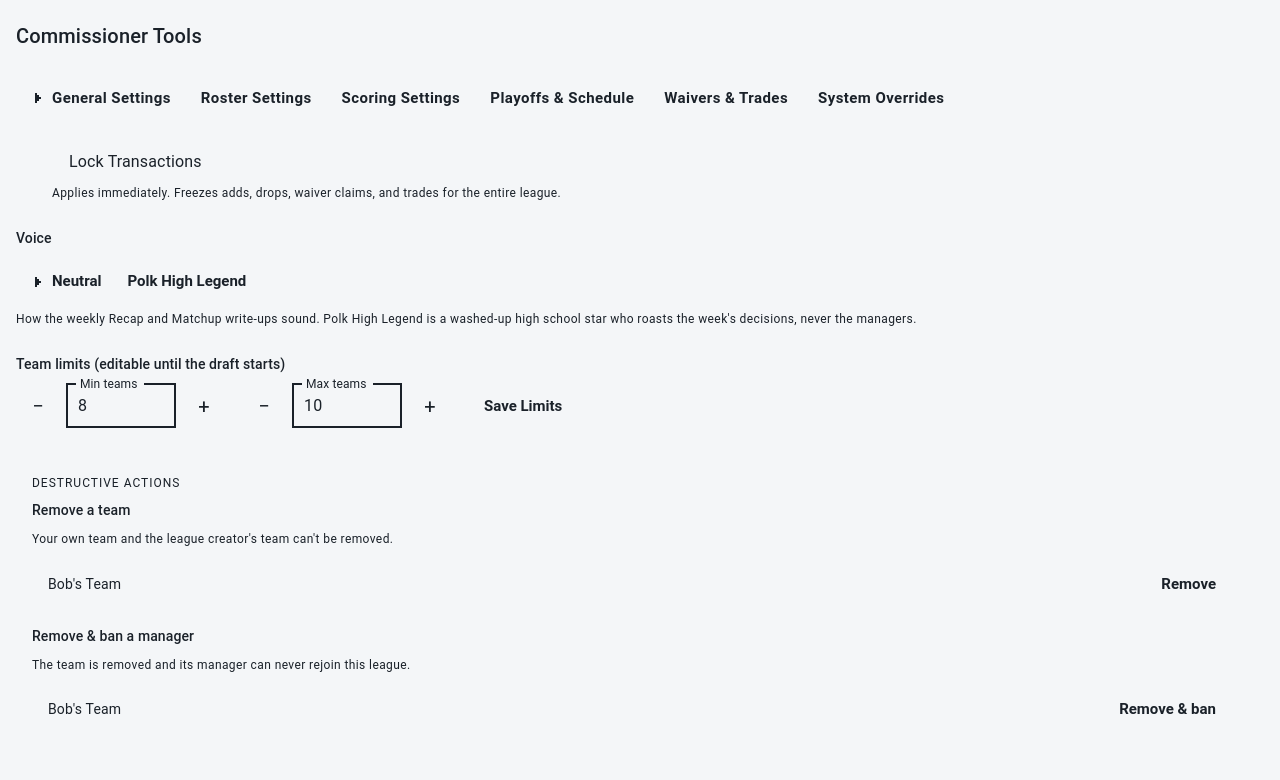
Test: Reset Scoring Settings requires a confirming second click before reverting
This screenshot has width=1280, height=780.
Step 1. Click the tab "Scoring Settings" → coordinates (401, 98), box 326,76 -> 476,120
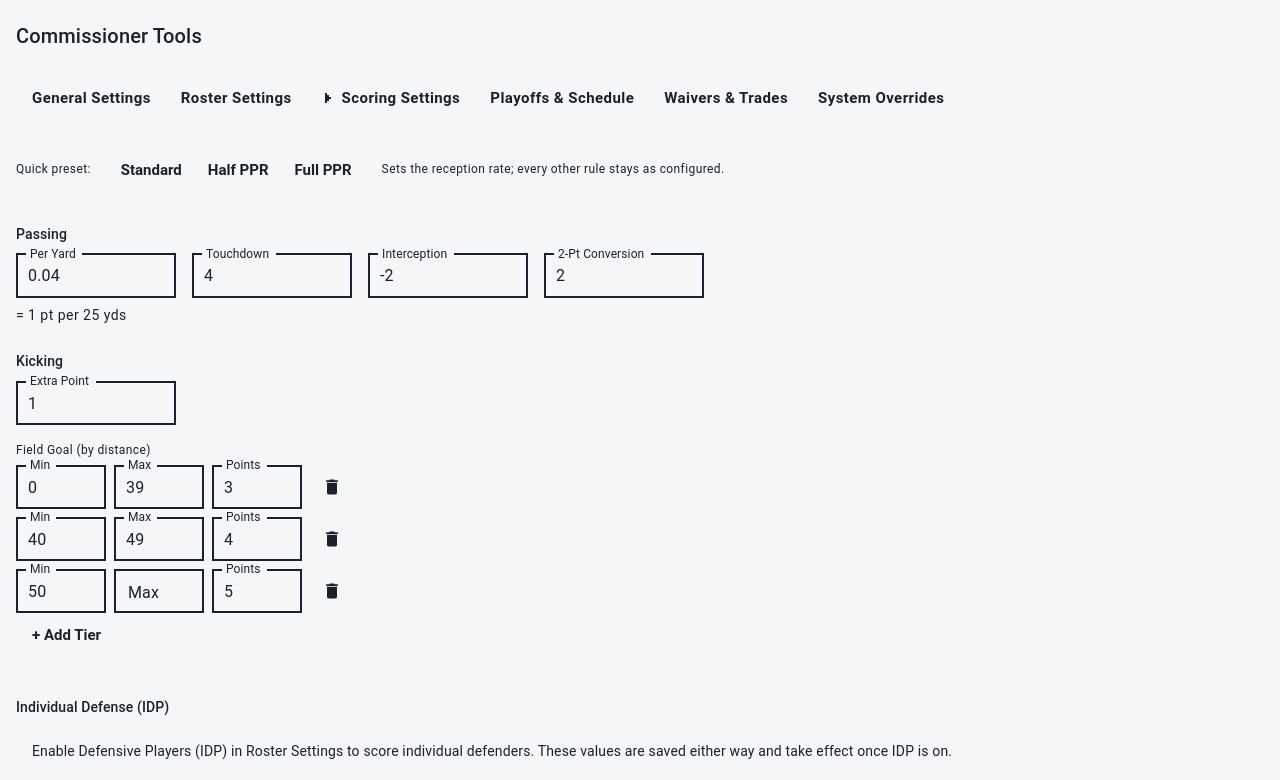
Step 2. Clear the number field labelled "Touchdown" → coordinates (272, 276), box 192,254 -> 352,298
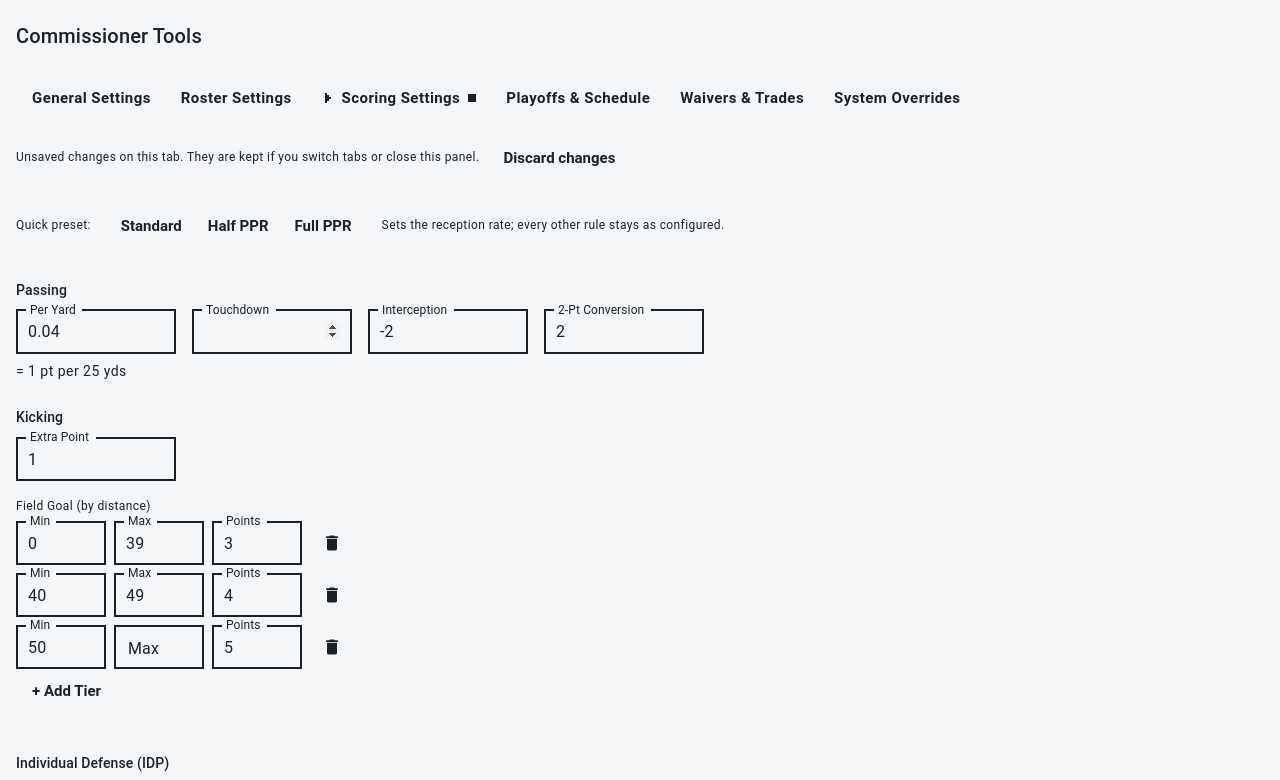
Step 3. Type "99" into the number field labelled "Touchdown" → coordinates (272, 332), box 192,310 -> 352,354
(page scrolled)
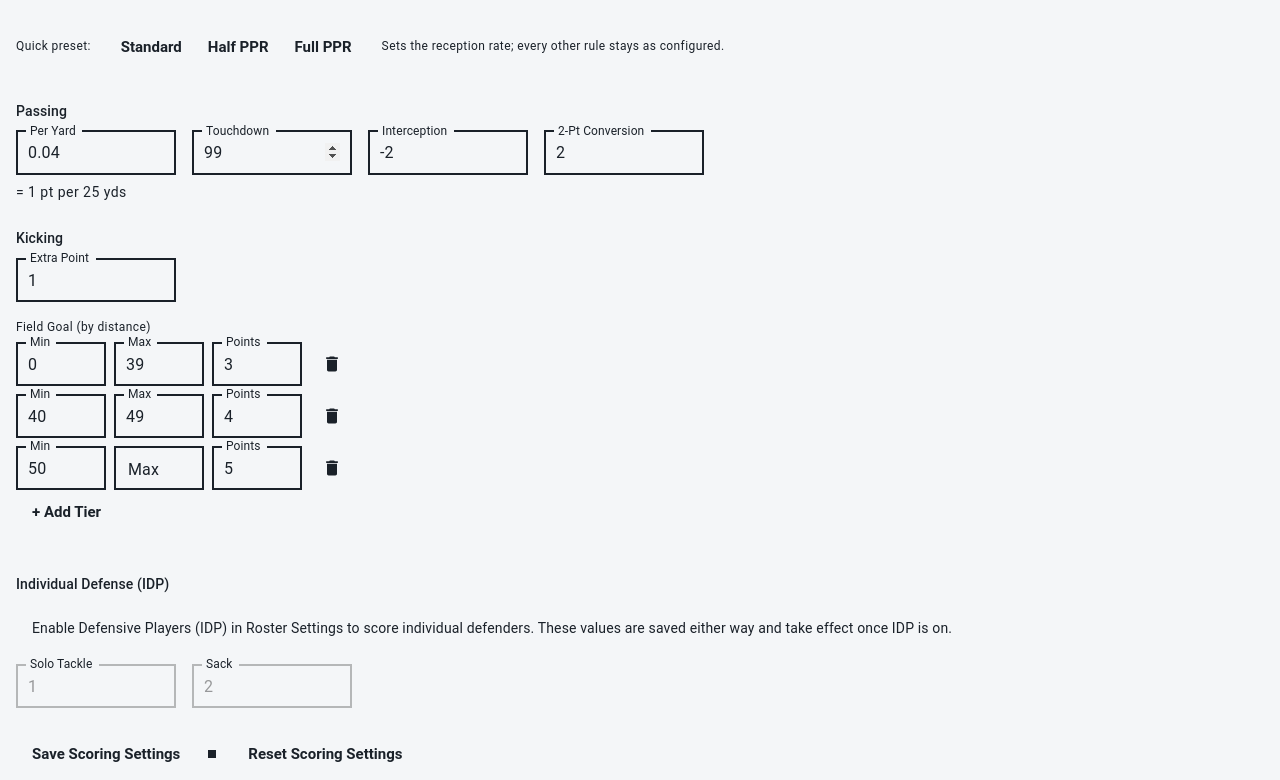
Step 4. Click the button "Reset Scoring Settings" → coordinates (325, 754), box 232,732 -> 418,776
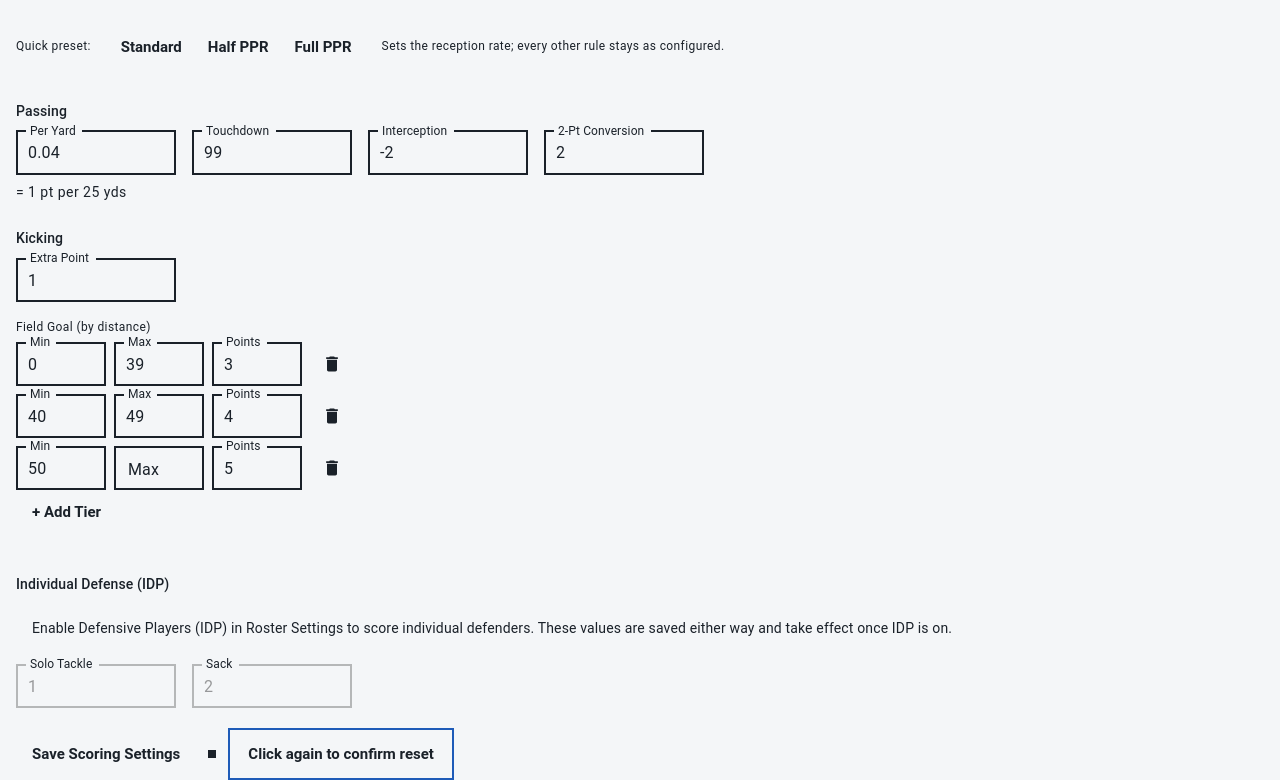
Step 5. Click the button "Click again to confirm reset" → coordinates (341, 754), box 232,732 -> 450,776
(page scrolled)
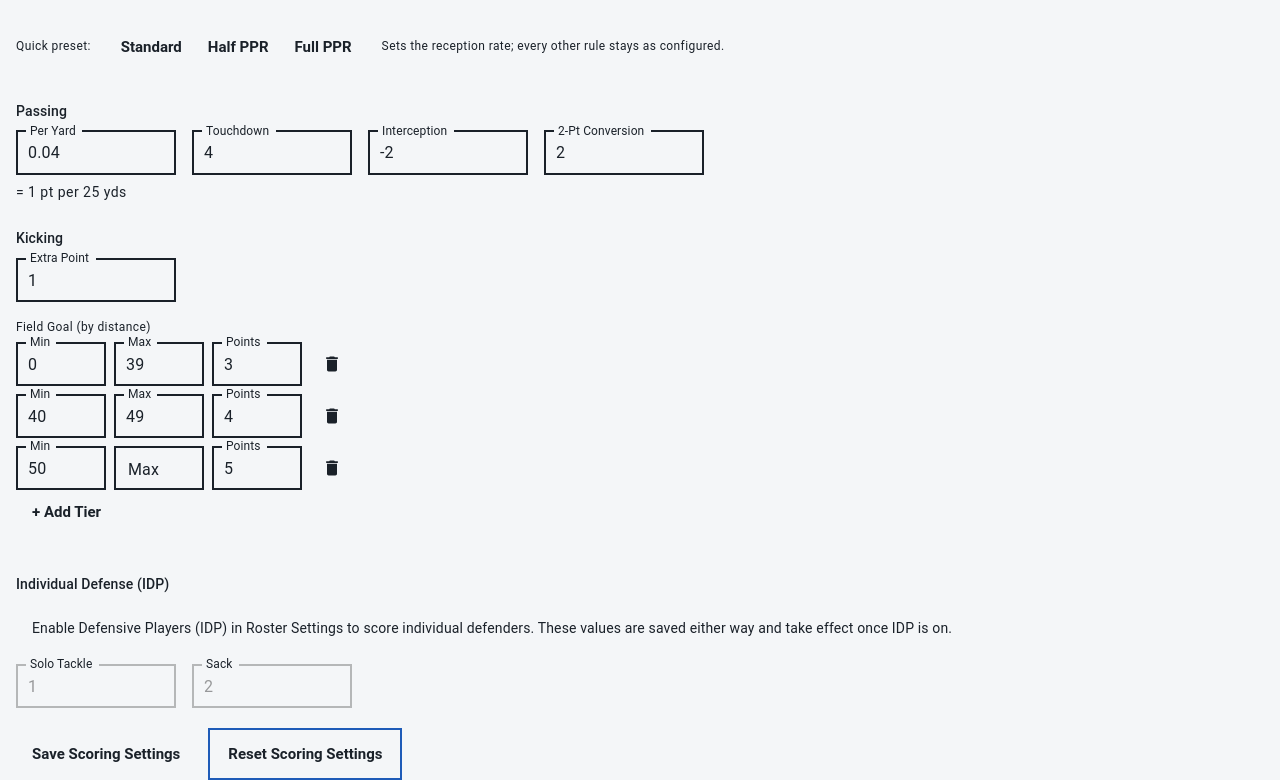
Result: the number field labelled "Touchdown" holds "4" at 192,131 -> 352,175
